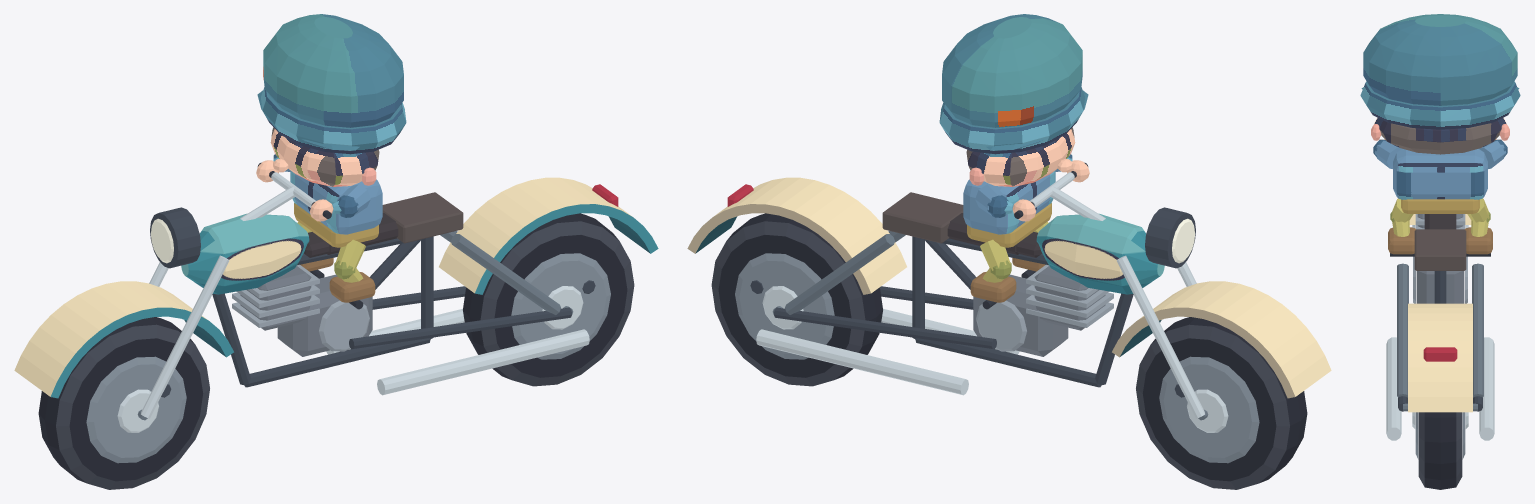
3 renders of one model, left to right at view 1: azimuth 30°, elevation 25°; view 2: azimuth 150°, elevation 25°; view 3: azimuth 270°, elevation 25°, orthographic. The views are drawn at different scales.
Parts seen in each view (by area): view 1: Body_static, RiderPerson7:Person7_static_seated, Wheel_F_tire_hub, Wheel_R_tire_hub; view 2: Body_static, RiderPerson7:Person7_static_seated, Wheel_F_tire_hub, Wheel_R_tire_hub; view 3: RiderPerson7:Person7_static_seated, Body_static, Wheel_R_tire_hub.
Boxes of the visible parts, x1,y1,x2,y2 form: Body_static: (14,162,658,420); RiderPerson7:Person7_static_seated: (256,14,406,302); Wheel_F_tire_hub: (38,317,209,489); Wheel_R_tire_hub: (463,213,634,386); Body_static: (687,162,1331,420); RiderPerson7:Person7_static_seated: (939,14,1089,302); Wheel_F_tire_hub: (1136,317,1307,489); Wheel_R_tire_hub: (711,213,882,386); RiderPerson7:Person7_static_seated: (1360,14,1520,254); Body_static: (1379,139,1501,440); Wheel_R_tire_hub: (1412,412,1468,489).
Size of the model in its own units: 55.84 by 35.57 by 14.09.
2 materials, 2 textured.
